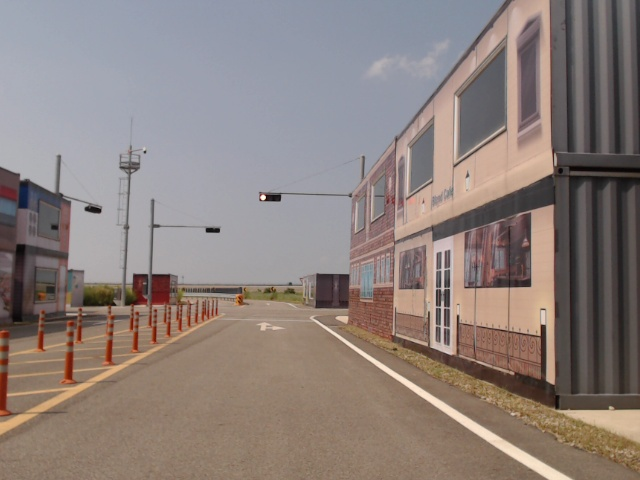red_3: (261, 194, 281, 201)
